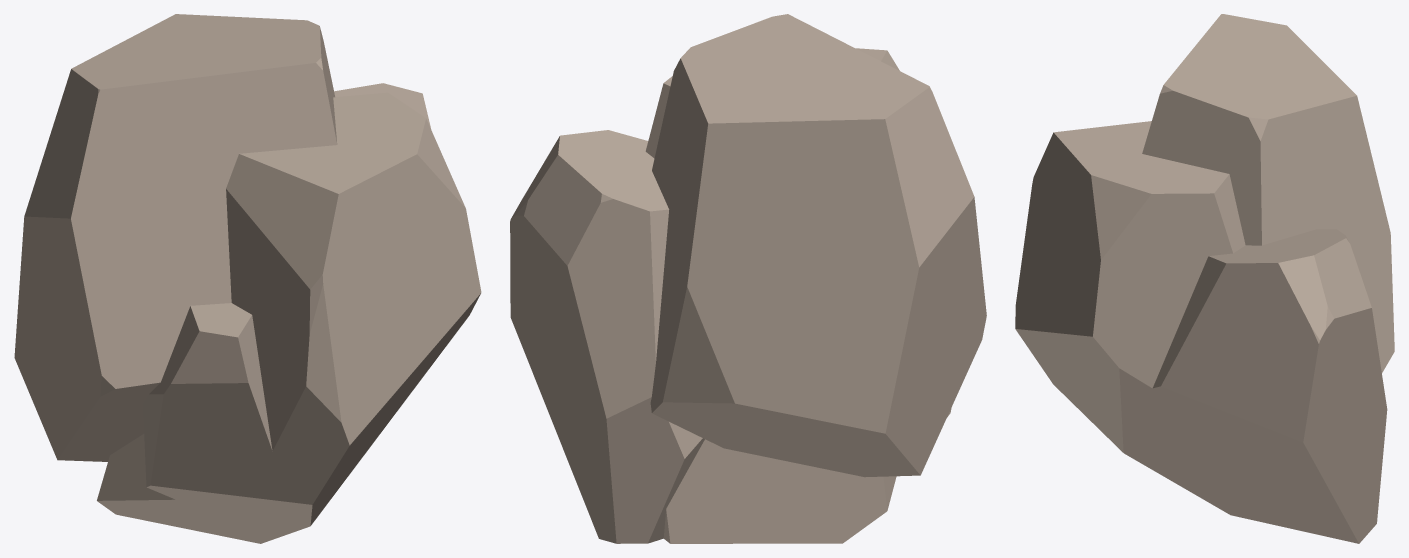
Rendered from ForestRockCluster1.glb.
The picture shows the model from 3 angles, left to right: view 1: azimuth 30°, elevation 25°; view 2: azimuth 150°, elevation 25°; view 3: azimuth 270°, elevation 25°; orthographic projection. The views are drawn at different scales.
Parts seen in each view (by area): view 1: ForestRockCluster1; view 2: ForestRockCluster1; view 3: ForestRockCluster1.
Part boxes in pixels (box(x1,y1,x2,y2)): ForestRockCluster1: box(14, 14, 481, 543); ForestRockCluster1: box(510, 14, 986, 543); ForestRockCluster1: box(1015, 14, 1394, 543).
Size of the model in its own units: 4.5 by 5.04 by 3.97.
